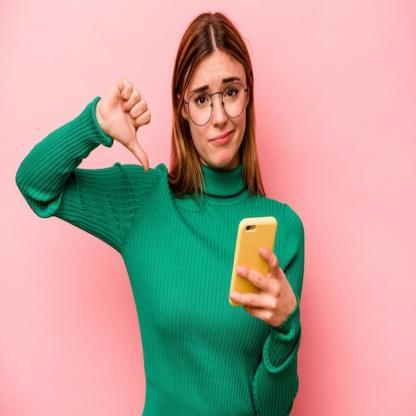thumb_down: (100, 77, 153, 174)
